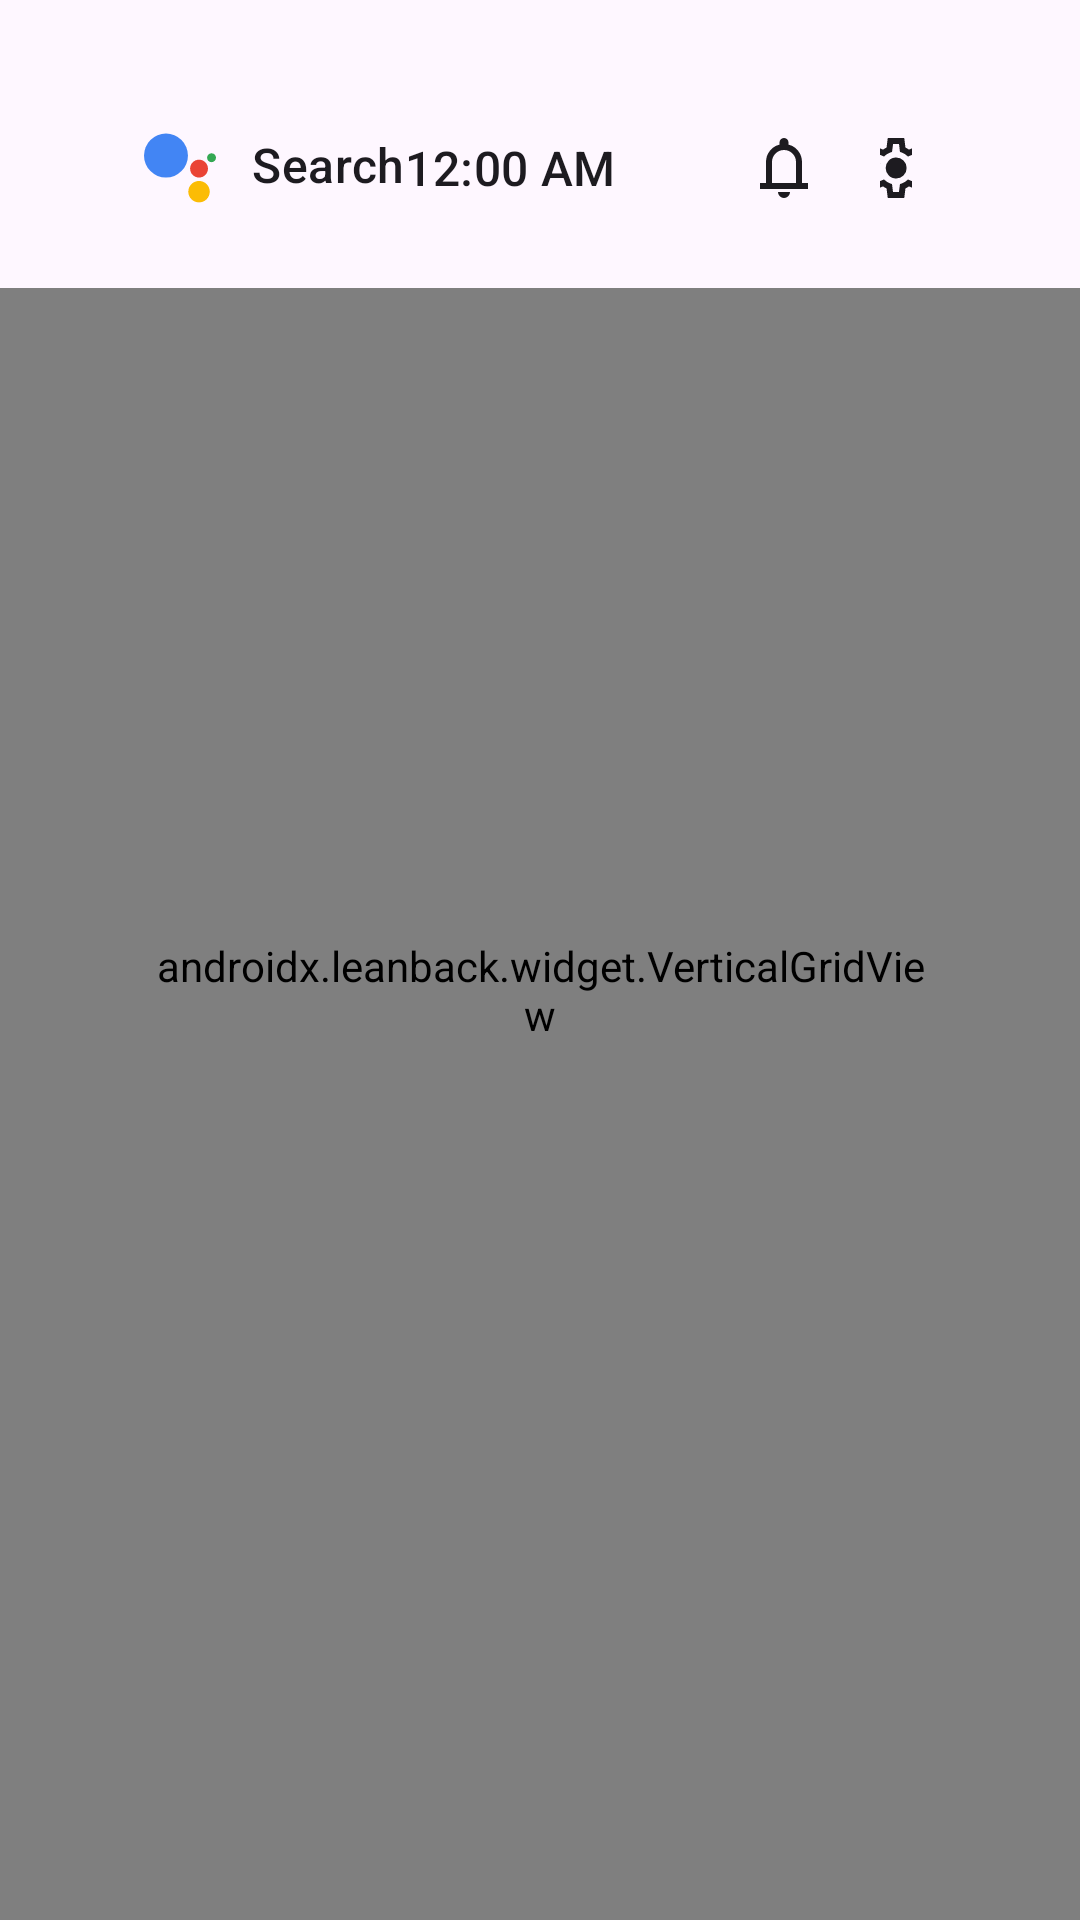

Locate icon controls on the screen. Image size 1080 × 1920, boxes as BBox(x1, y1, x2, y2).
settings: BBox(880, 138, 912, 198)
